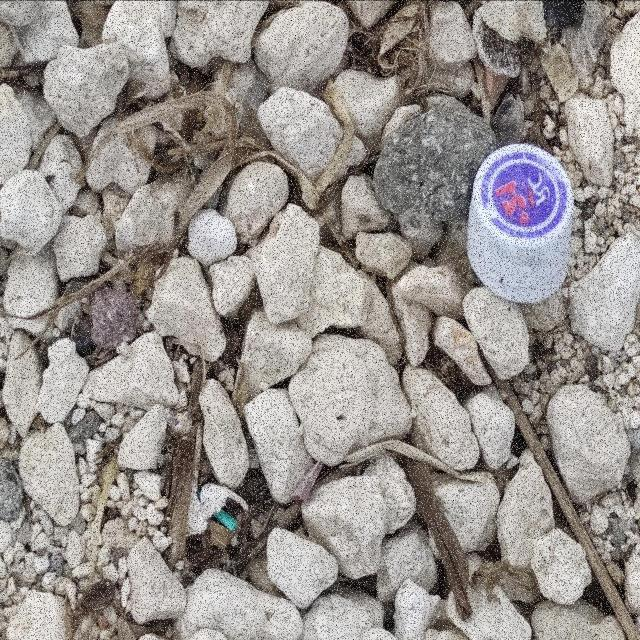plastic_waste: (465, 143, 577, 308)
